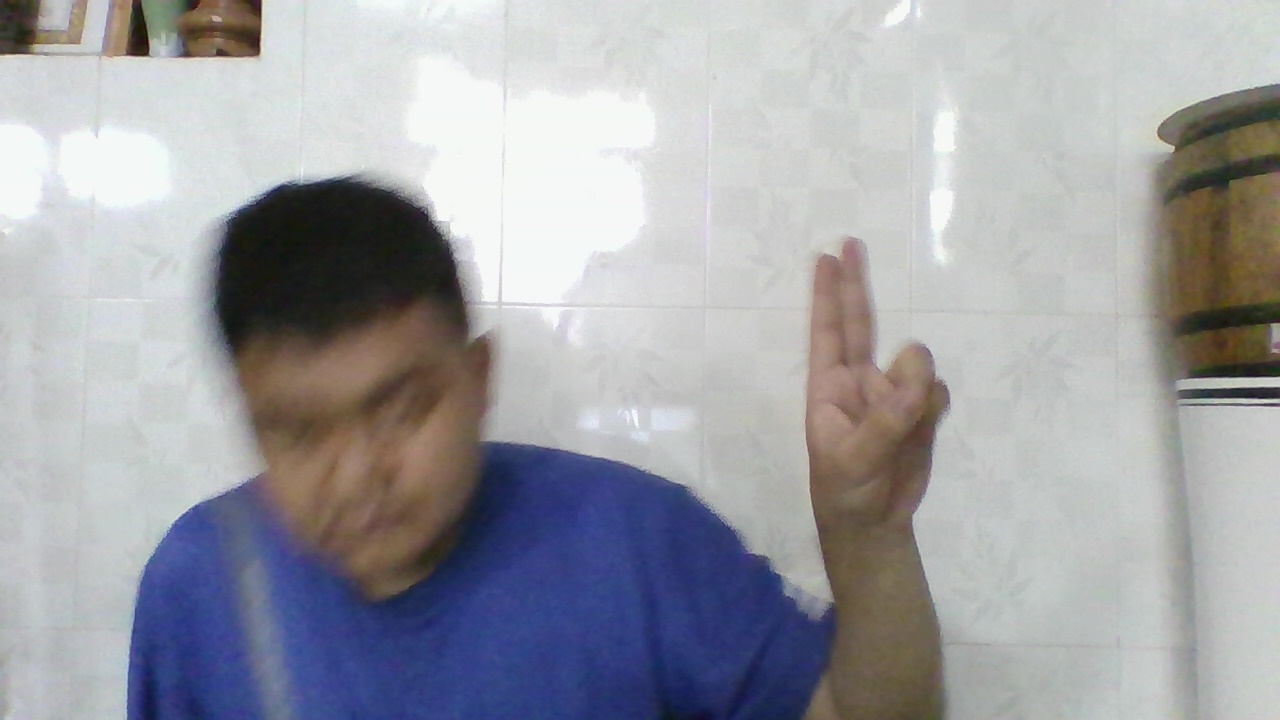U: (808, 233, 954, 543)
